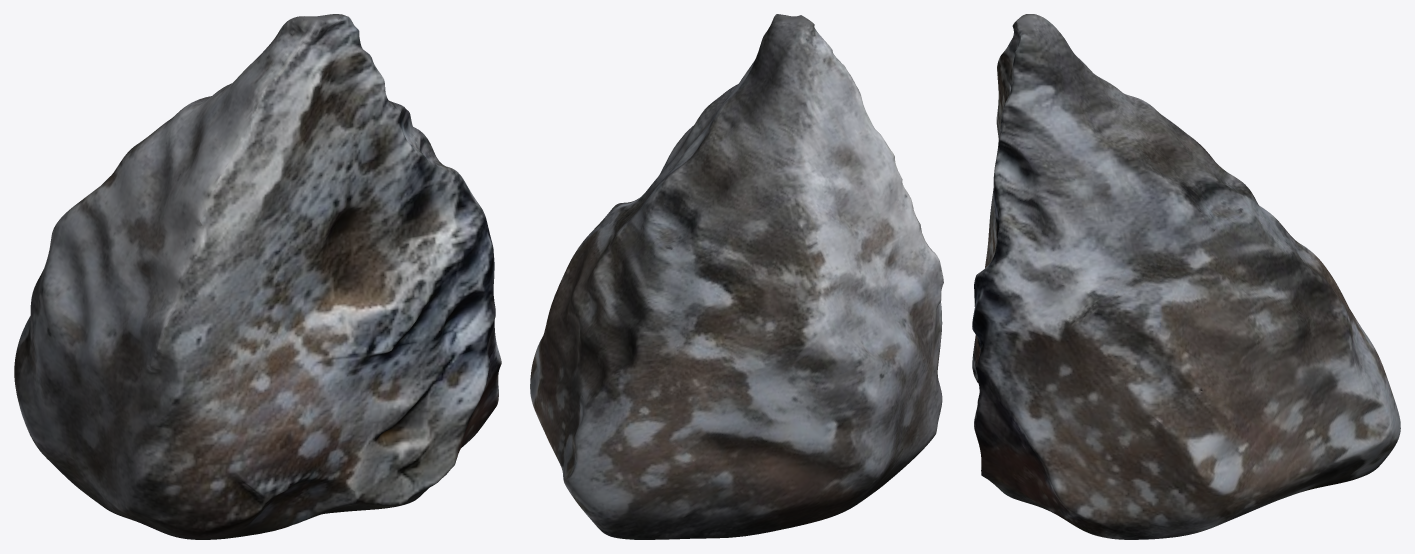
The model's file is prop_rock_a.glb.
3 renders of one model, left to right at view 1: azimuth 30°, elevation 25°; view 2: azimuth 150°, elevation 25°; view 3: azimuth 270°, elevation 25°, orthographic. The views are drawn at different scales.
Visible parts, largest first — view 1: node_0; view 2: node_0; view 3: node_0.
Boxes of the visible parts, bbox=[...] form: node_0: bbox=[14, 14, 501, 539]; node_0: bbox=[530, 14, 943, 539]; node_0: bbox=[972, 14, 1400, 539].
Size of the model in its own units: 0.7802 by 0.8909 by 0.7885.
Materials: 1 (1 with a texture image).
